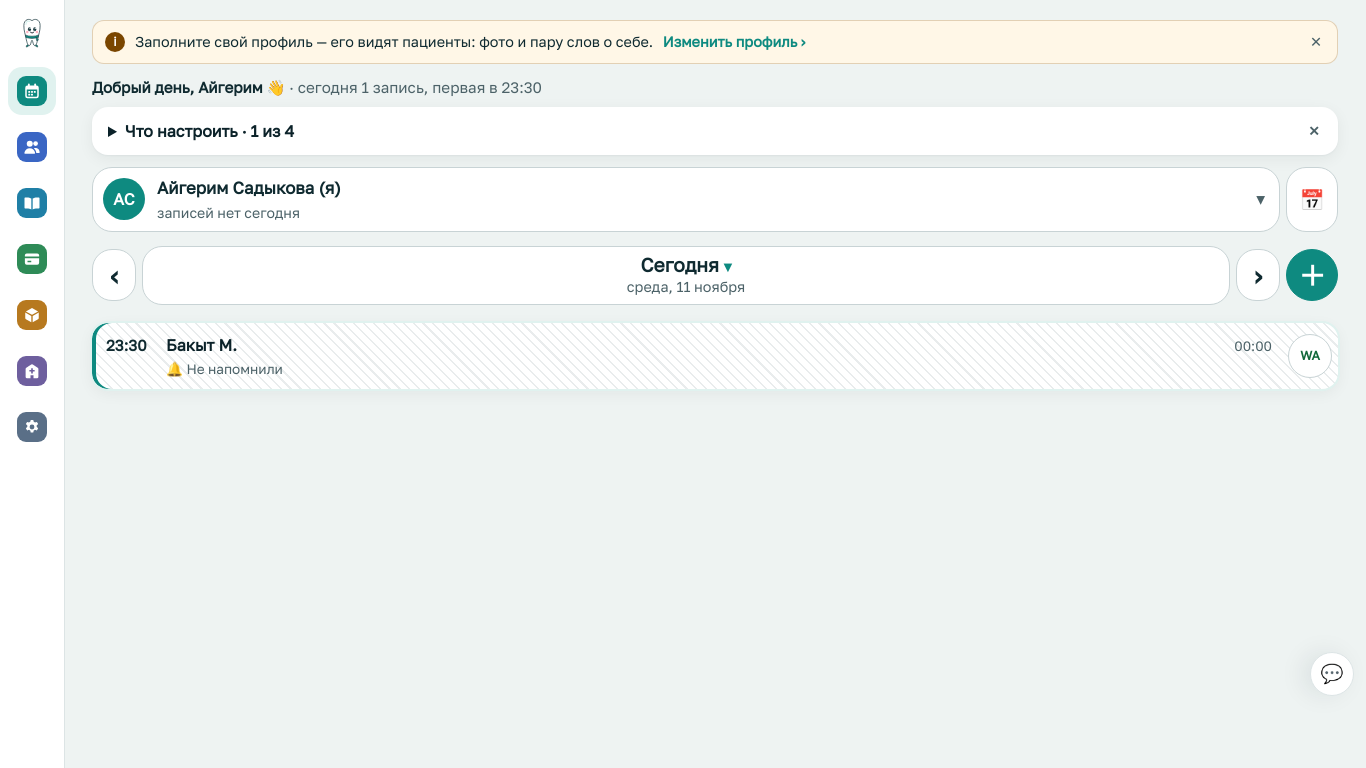
Test: телефон: «WA» — WhatsApp с подписью клиники, затем «✓ отправлено»; уже напомнили — сразу отметка
Click the button with aria-label "Напомнить в WhatsApp: Бакыт М.": (1310, 356) [1288,334,1332,378]
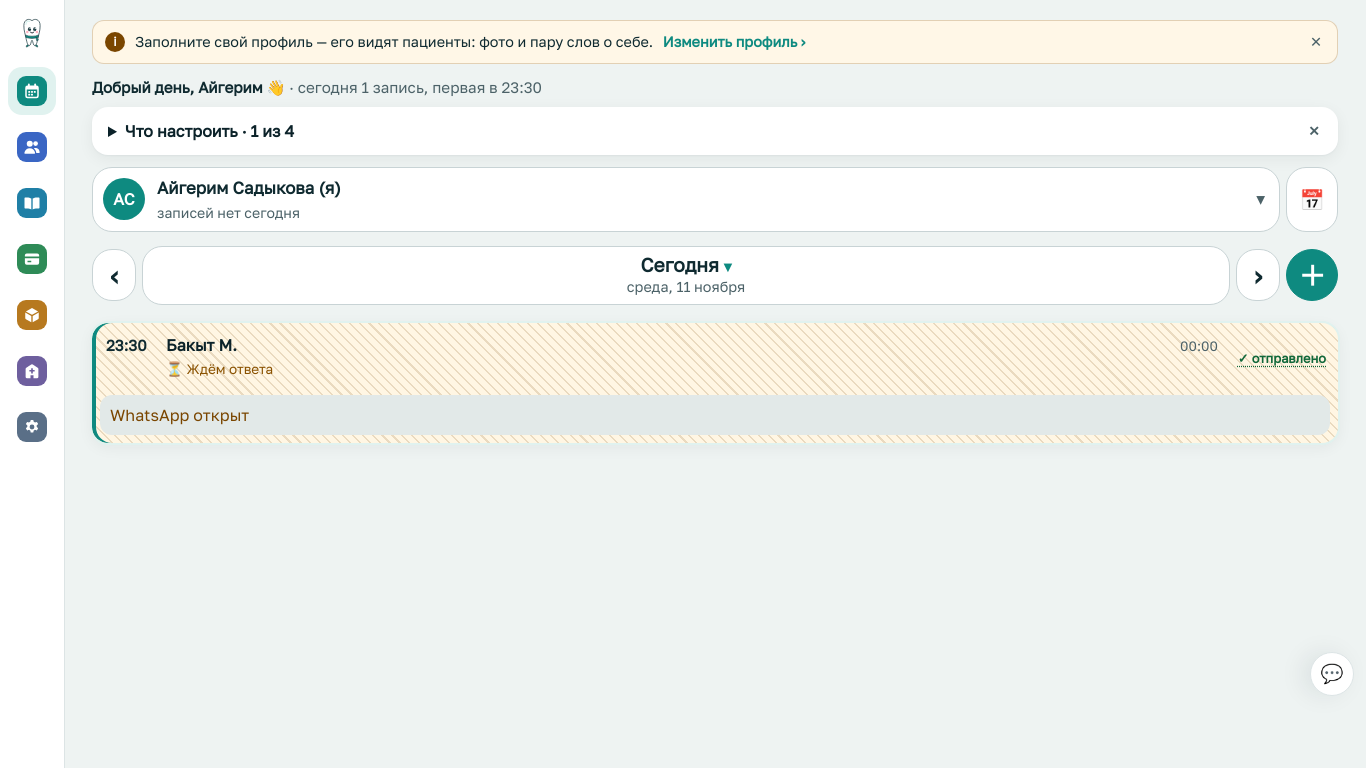
Now the button with aria-label "Напоминание отправлено: Бакыт М." is shown, box [1234,344,1330,368]
